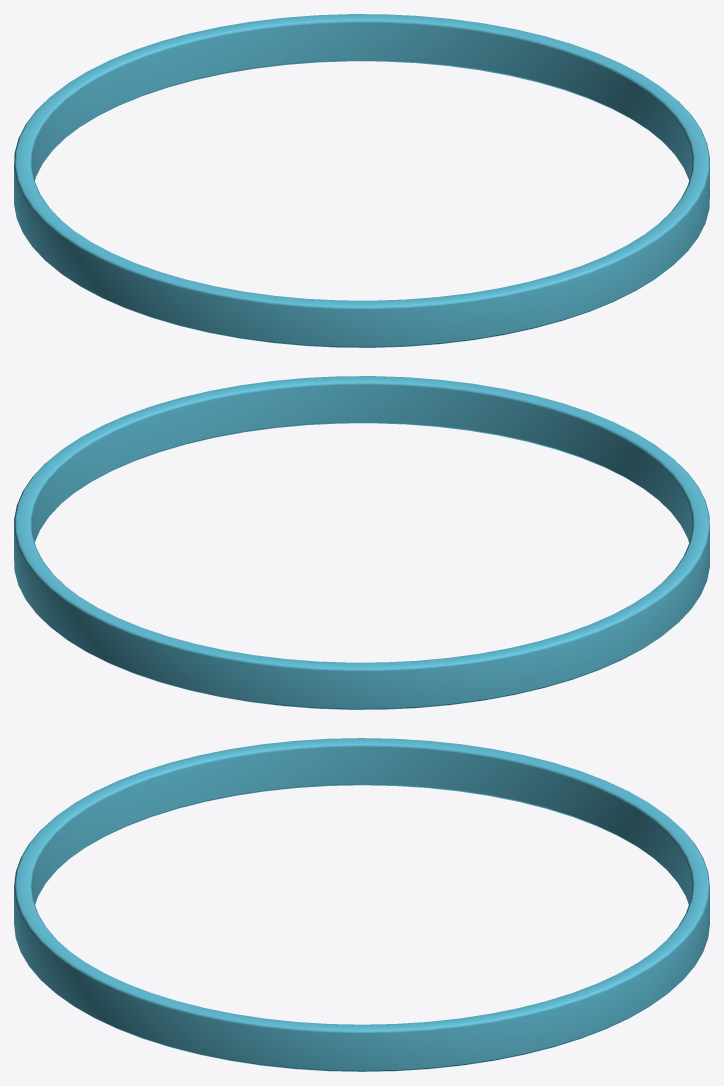
3 renders of one model, top to bottom at view 1: azimuth 30°, elevation 25°; view 2: azimuth 150°, elevation 25°; view 3: azimuth 270°, elevation 25°, orthographic.
Parts seen in each view (by area): view 1: seal_body; view 2: seal_body; view 3: seal_body.
Part boxes in pixels (x1,y1,x2,y2): seal_body: [14, 14, 709, 347]; seal_body: [14, 376, 709, 709]; seal_body: [14, 738, 709, 1071].
Bounding box in the file's own units: 0.195 × 0.013 × 0.195.
